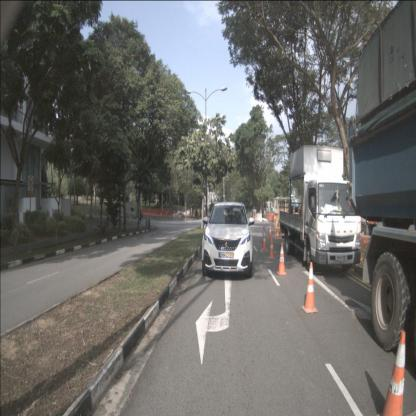human-pedestrian-adult: (139, 209, 143, 224)
movable_object-barrier: (256, 213, 262, 222), (151, 209, 157, 217), (167, 210, 173, 218), (146, 208, 152, 216), (156, 210, 162, 218), (162, 211, 168, 218), (141, 208, 146, 215)
movable_object-trafficcone: (374, 329, 413, 416), (302, 262, 318, 314), (276, 242, 287, 275), (268, 236, 275, 260), (262, 230, 268, 250), (262, 225, 268, 245), (268, 223, 273, 238), (275, 223, 280, 238)
vehicle-car: (201, 201, 252, 278)
vehicle-truck: (348, 0, 416, 353), (279, 144, 362, 273)
